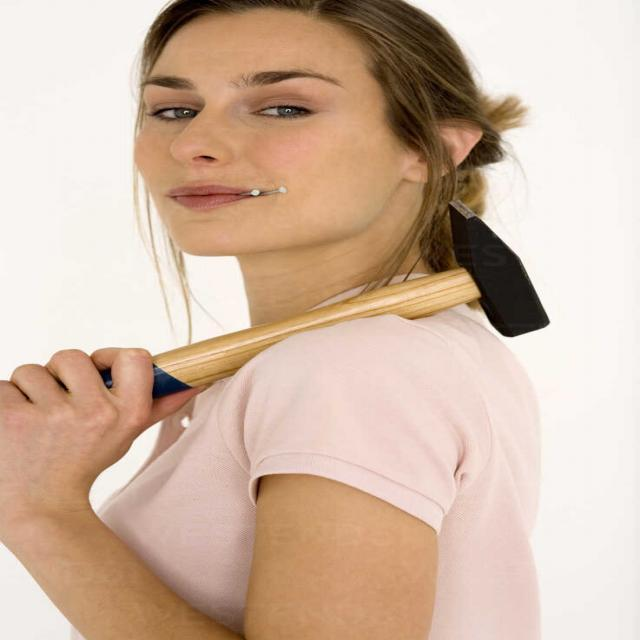hammer: (56, 190, 557, 417)
